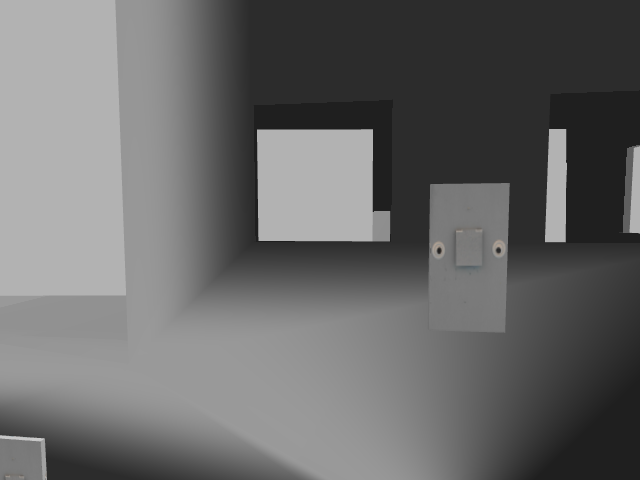facade: (430, 225, 506, 269)
